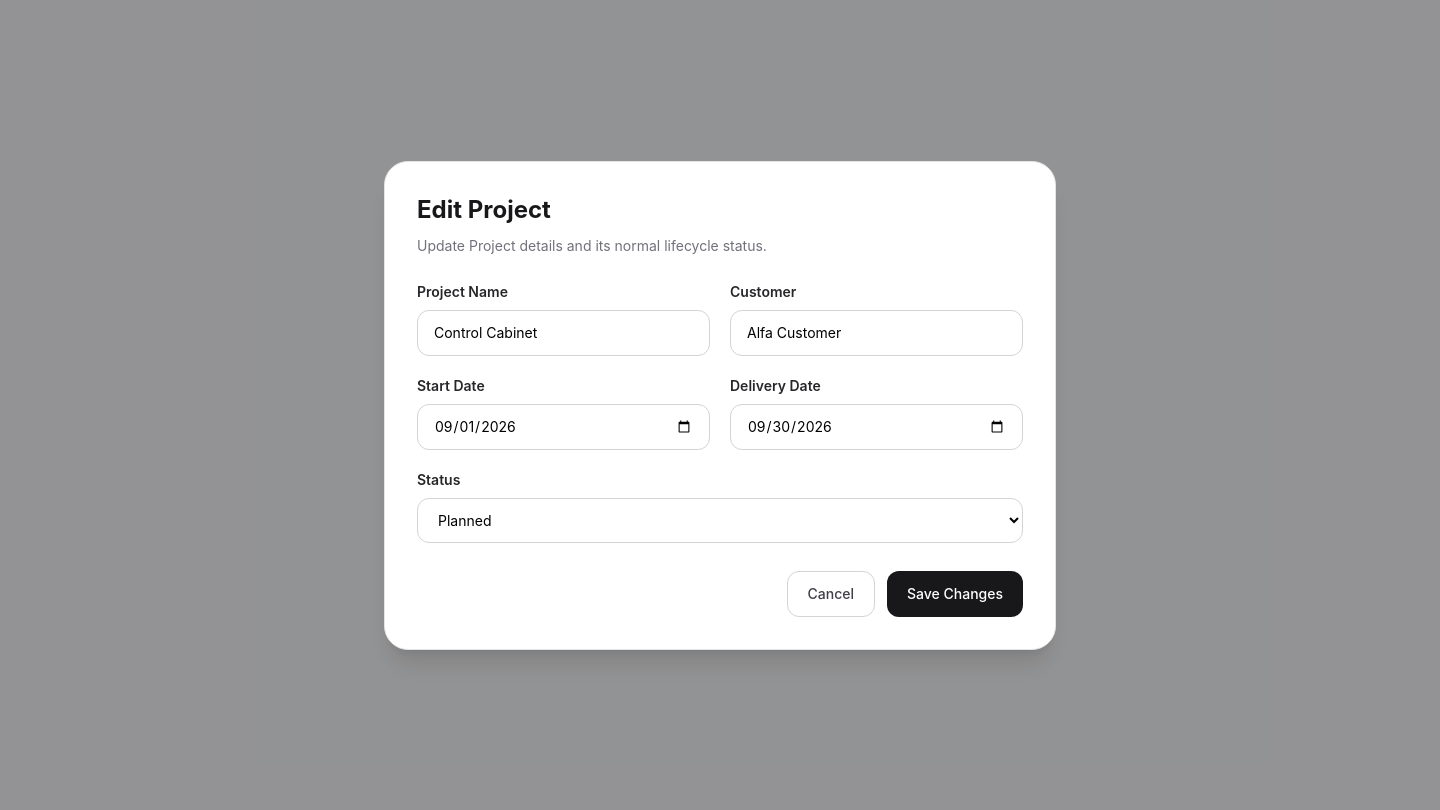
ProjectEditDialog › blocks duplicate submission and keeps safe service errors visible
This screenshot has width=1440, height=810.
Click the button "Save Changes". click: {"x": 955, "y": 594}
box: [887,570,1023,616]
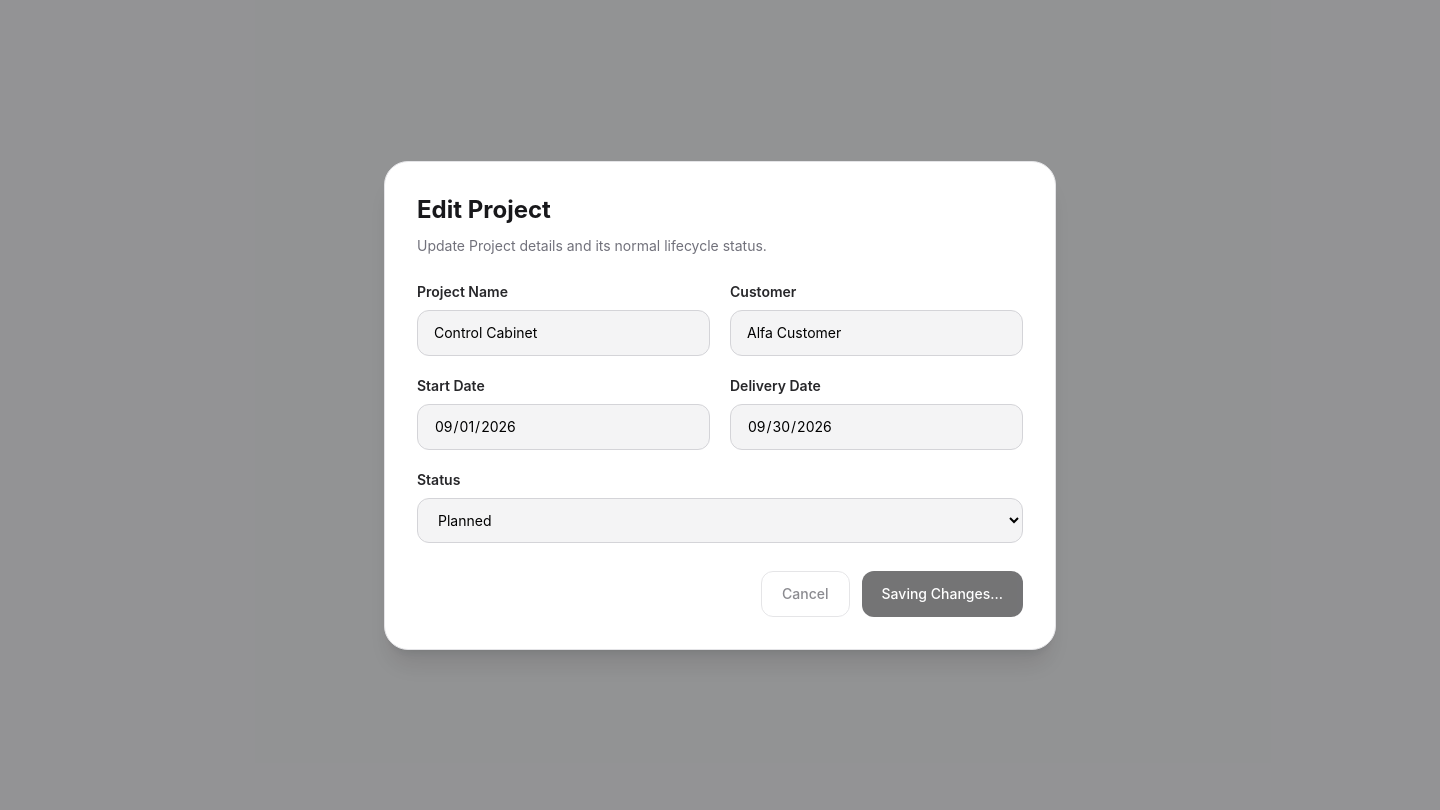
Click the button named "Save Changes". click: {"x": 942, "y": 594}
box: [862,570,1023,616]
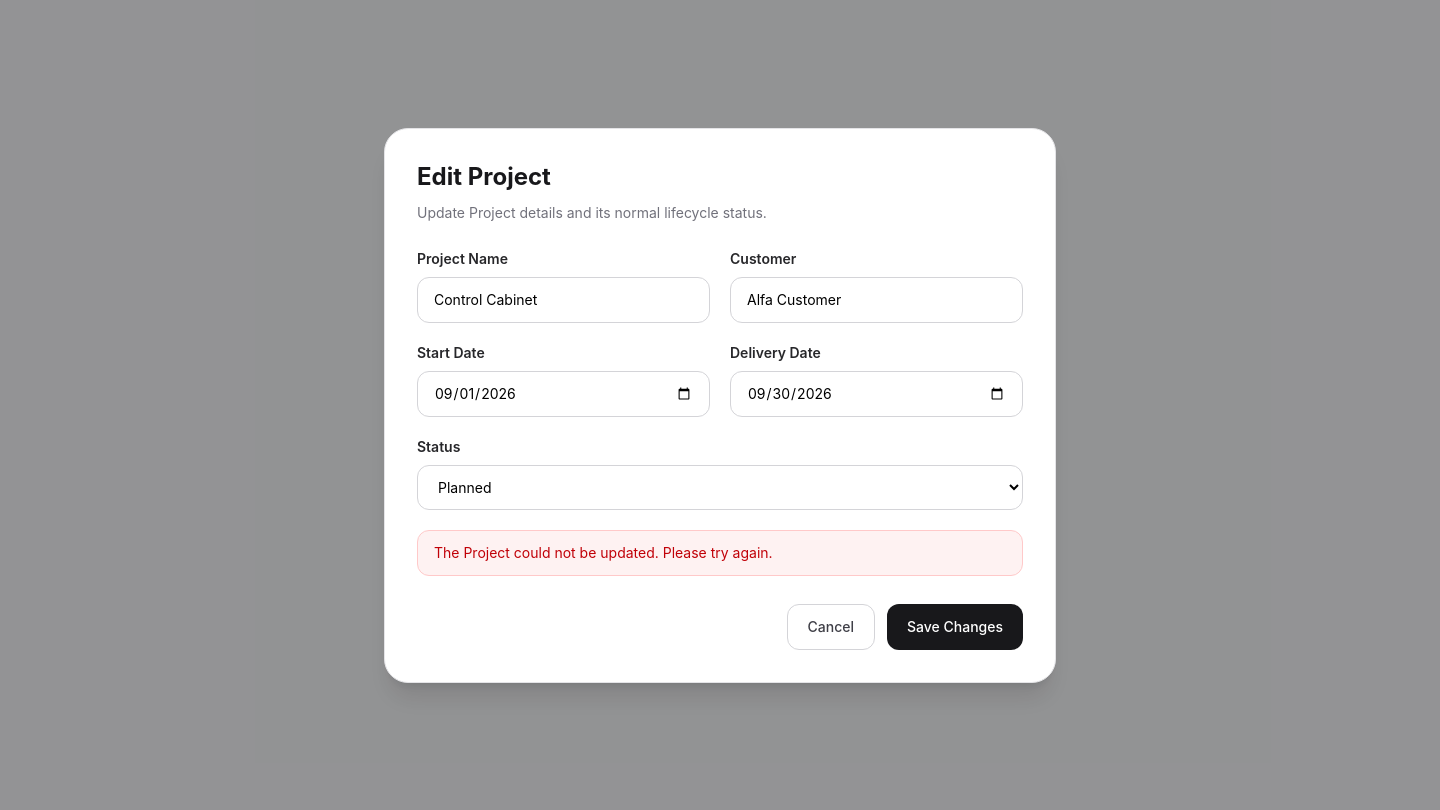
Expected: the message reads "The Project could not be updated. Please try again.", [434,544,773,560]
